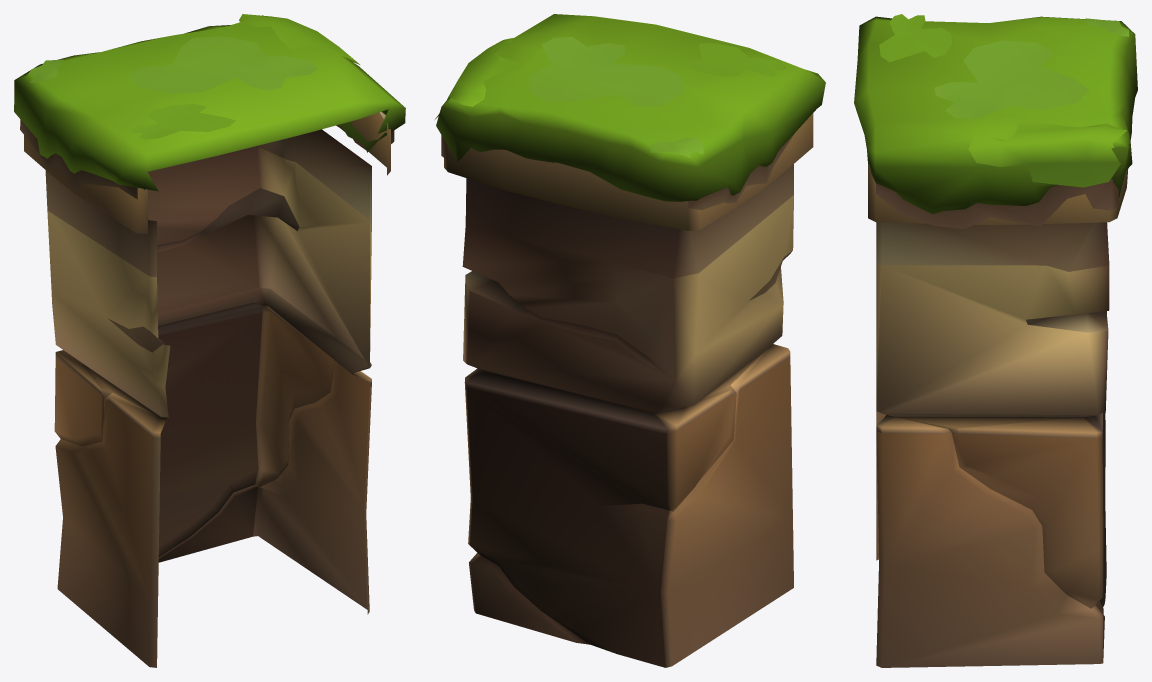
The model's file is city_piston_2.fbx.
3 renders of one model, left to right at view 1: azimuth 30°, elevation 25°; view 2: azimuth 150°, elevation 25°; view 3: azimuth 270°, elevation 25°, orthographic. The views are drawn at different scales.
Parts seen in each view (by area): view 1: piston; view 2: piston; view 3: piston.
Boxes of the visible parts, left/top/right/bottom form: piston: left=14, top=14, right=405, bottom=667; piston: left=435, top=14, right=825, bottom=667; piston: left=854, top=14, right=1137, bottom=667.
Bounding box in the file's own units: 121 × 213 × 99.44.
